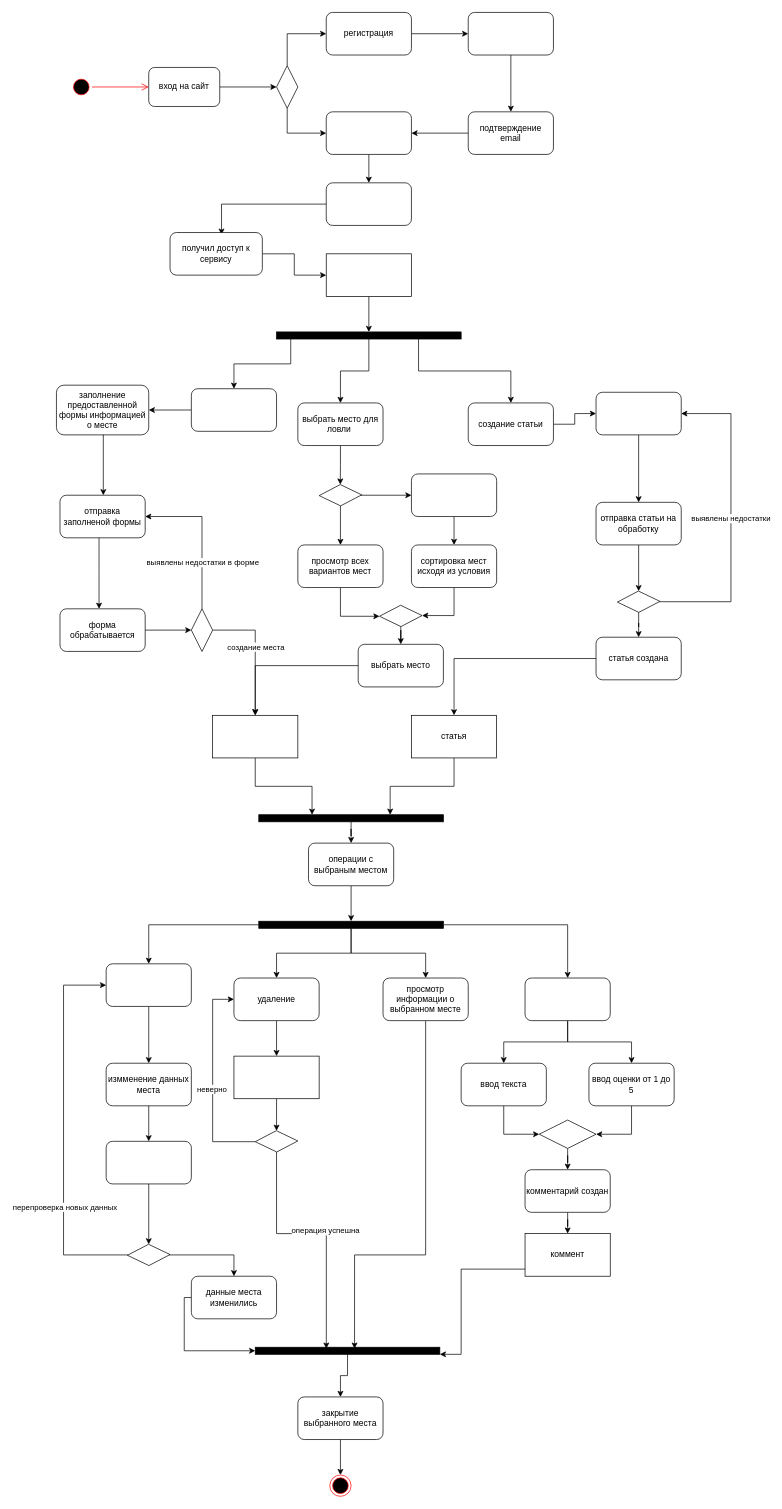
The diagram is 782 pixels wide and 1509 high, and some of its shapes have lost their labels. The shapes that lost their labels are listed below. From the top down, each one's centre as x and y in pixels, then its label:
At point 510,33: "заполнение формы".
At point 368,132: "авторизация".
At point 368,203: "ввод логина и пороля".
At point 368,274: "сервис".
At point 234,409: "создание места для ловли".
At point 638,413: "заполнение данными".
At point 454,495: "указать условия".
At point 255,736: "место".
At point 148,984: "редактирование".
At point 567,999: "создание комментария".
At point 276,1077: "появление окна с вводам имени места для удаления".
At point 148,1162: "проверка новых данных".
